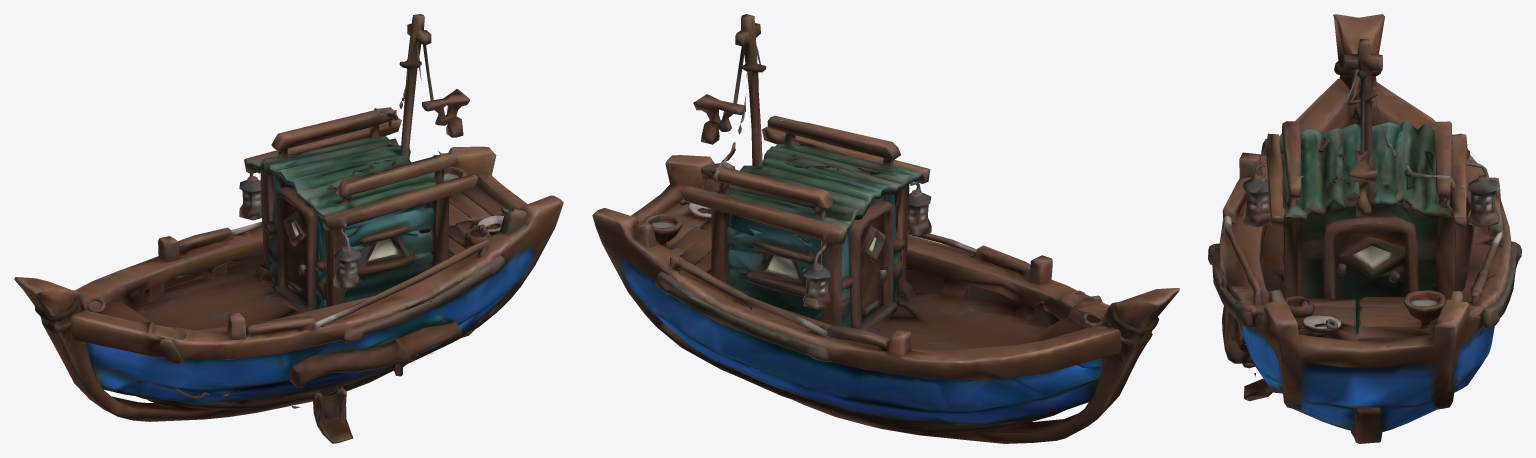
File: prop_hanabi_boat.fbx
The picture shows the model from 3 angles, left to right: view 1: azimuth 30°, elevation 25°; view 2: azimuth 150°, elevation 25°; view 3: azimuth 270°, elevation 25°; orthographic projection. The views are drawn at different scales.
Parts seen in each view (by area): view 1: geometry_0; view 2: geometry_0; view 3: geometry_0.
Boxes of the visible parts, <box> form: geometry_0: <box>14,14,563,443</box>; geometry_0: <box>592,14,1179,443</box>; geometry_0: <box>1208,14,1521,443</box>.
Size of the model in its own units: 1 by 0.6785 by 0.4517.
Materials: 1 (1 with a texture image).
